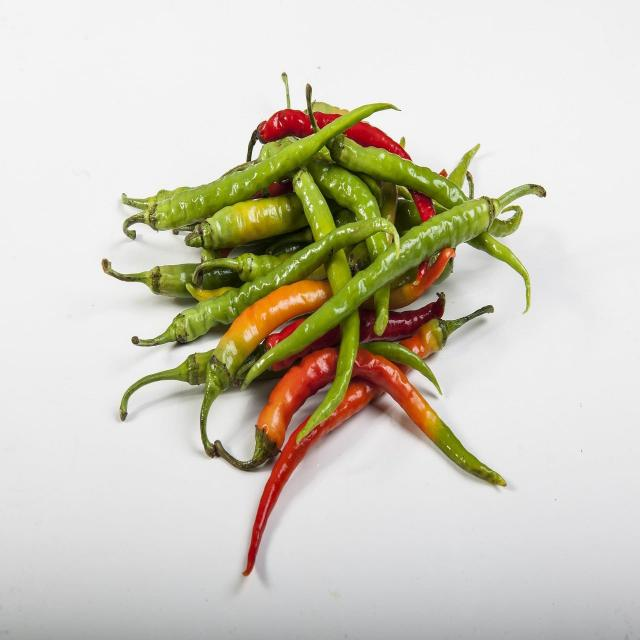chilli: (392, 379, 510, 497), (240, 445, 311, 584), (211, 304, 266, 396), (193, 200, 296, 249), (249, 370, 296, 459), (331, 132, 416, 181), (425, 193, 502, 247)
